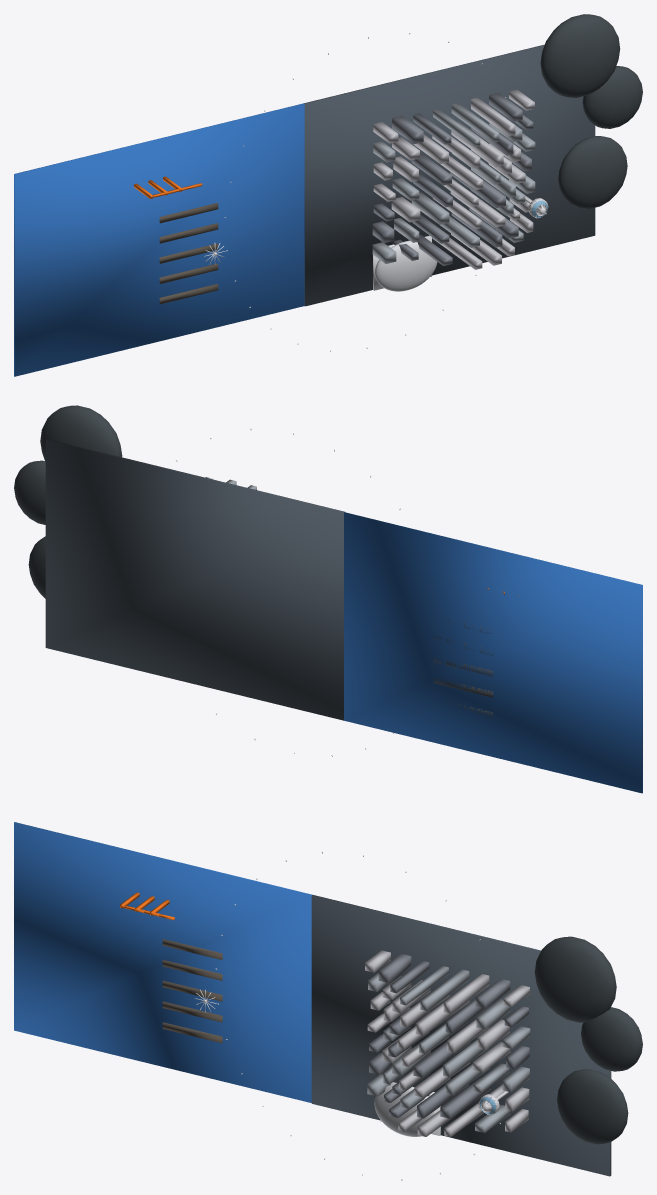
Rendered from seattle_like_city.obj.
3 views of the same model, one above another, from view 1: azimuth 30°, elevation 25°; view 2: azimuth 150°, elevation 25°; view 3: azimuth 330°, elevation 25° (orthographic). The views are drawn at different scales.
Parts seen in each view (by area): view 1: Water, Land, Hill_0, Hill_2, Hill_1, Stadium_Dome, Building_052, Building_053, Building_044, Building_018, Building_051, Building_034 (+10 smaller); view 2: Land, Water, Hill_0, Hill_1, Hill_2; view 3: Water, Land, Hill_0, Hill_2, Hill_1, Stadium_Dome, Building_052, Building_053, Building_013, Building_028, Building_029, Building_044 (+13 smaller).
Part boxes in pixels (x1,y1,x2,y2): Water: (14,103,304,376); Land: (304,44,595,306); Hill_0: (540,14,620,97); Hill_2: (558,136,627,208); Hill_1: (582,66,642,128); Stadium_Dome: (375,240,437,291); Building_052: (451,103,499,142); Building_053: (471,97,515,136); Building_044: (451,122,503,167); Building_018: (411,192,449,224); Building_051: (433,108,480,147); Building_034: (411,153,451,185); Land: (45,439,344,720); Water: (344,512,642,793); Hill_0: (40,405,122,461); Hill_1: (14,460,45,524); Hill_2: (28,536,45,598); Water: (14,822,312,1102); Land: (311,895,611,1176); Hill_0: (534,936,616,1022); Hill_2: (557,1069,628,1144); Hill_1: (581,1007,642,1071); Stadium_Dome: (374,1084,437,1136); Building_052: (420,969,469,1010); Building_053: (443,974,489,1013); Building_013: (440,1078,490,1118); Building_028: (413,1041,470,1077); Building_029: (443,1040,488,1076); Building_044: (415,1000,469,1035).
Bounding box in the file's own units: 1280 × 616 × 169.
